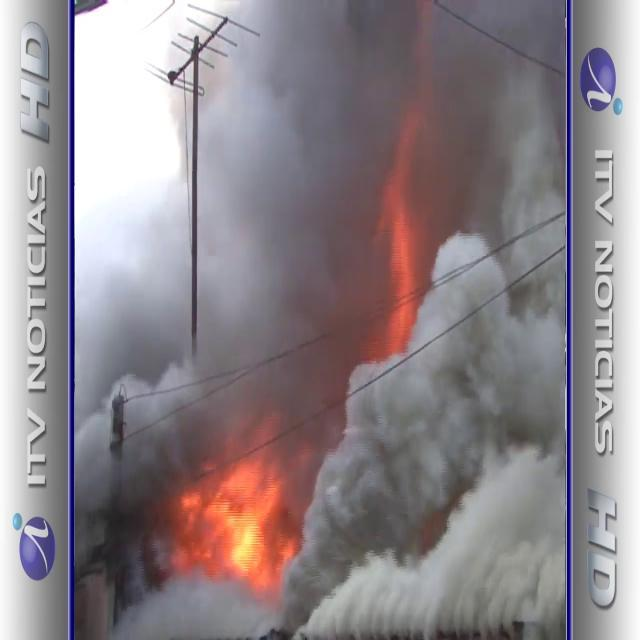Fire: (171, 446, 297, 588)
Smoke: (80, 1, 570, 478)
